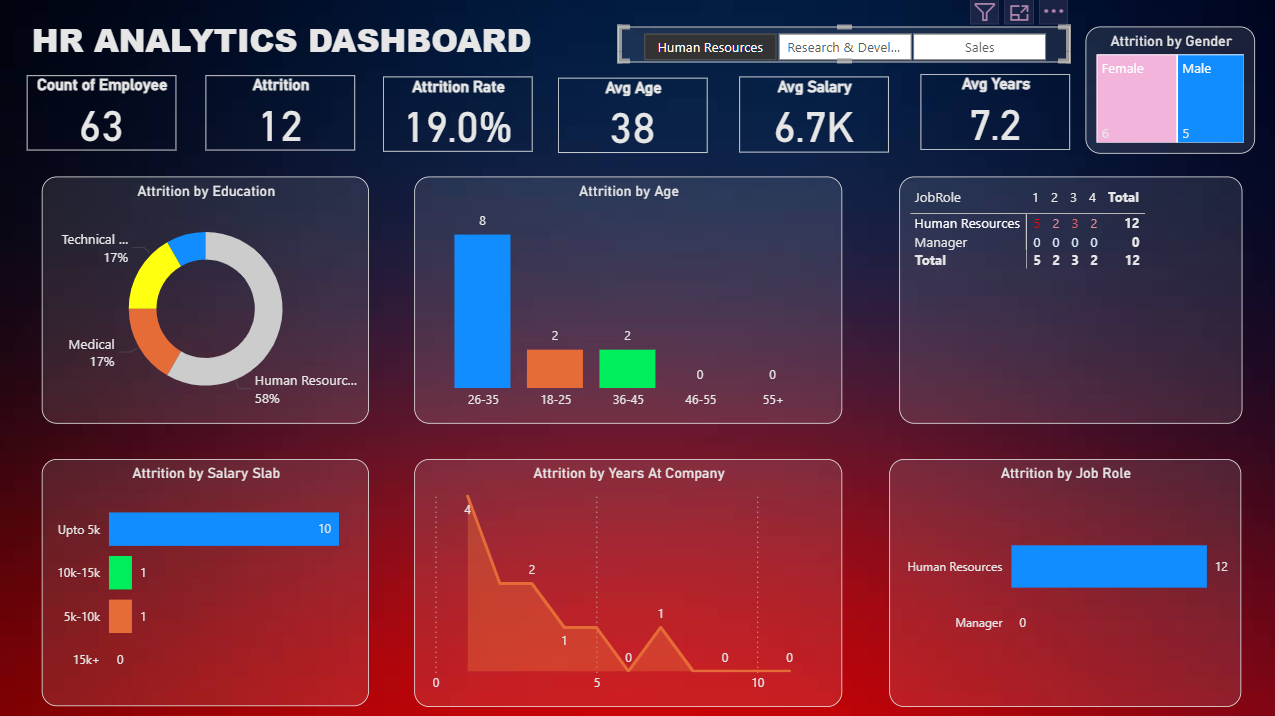

What the dashboard file says about the page in this screenshot:
{"tool":"powerbi","page":{"name":"Page 1","canvas":[1280,720],"ordinal":0},"visuals":[{"type":"card","title":"Count of Employee","fields":{"Values":["CountNonNull(HR_Analytics.EmpID)"]},"box":[29.3,75.7,149.6,75.5],"z":0},{"type":"card","title":"Attrition","fields":{"Values":["Sum(HR_Analytics.AttritionCount)"]},"box":[207.7,75.7,149.6,75.5],"z":1000},{"type":"card","title":"Attrition Rate","fields":{"Values":["HR_Analytics.AttritionRate"]},"box":[384.7,77.1,149.6,75.5],"z":2000},{"type":"card","title":"Avg Age","fields":{"Values":["Avg(HR_Analytics.Age)"]},"box":[560.4,78.4,149.6,75.5],"z":3000},{"type":"card","title":"Avg Salary","fields":{"Values":["Avg(HR_Analytics.MonthlyIncome)"]},"box":[741.8,77.6,149.6,76],"z":4000},{"type":"card","title":"Avg Years","fields":{"Values":["Avg(HR_Analytics.YearsAtCompany)"]},"box":[922.8,75.2,149.6,76],"z":5000},{"type":"donutChart","title":"Attrition by Education","fields":{"Category":["HR_Analytics.EducationField"],"Y":["Sum(HR_Analytics.AttritionCount)"]},"box":[43.6,177.5,327.3,247.3],"z":6000},{"type":"columnChart","title":"Attrition by Age","fields":{"Category":["HR_Analytics.AgeGroup"],"Y":["Sum(HR_Analytics.AttritionCount)"]},"box":[415.8,177.7,428,247.3],"z":6001},{"type":"pivotTable","title":"Job Satisfaction","fields":{"Rows":["HR_Analytics.JobRole"],"Columns":["HR_Analytics.JobSatisfaction"],"Values":["Sum(HR_Analytics.AttritionCount)"]},"box":[900.8,177.5,343.1,247.3],"z":6002},{"type":"barChart","title":"Attrition by Salary Slab","fields":{"Category":["HR_Analytics.SalarySlab"],"Y":["Sum(HR_Analytics.AttritionCount)"]},"box":[43.6,460,327.3,247.3],"z":6003},{"type":"barChart","title":"Attrition by Job Role","fields":{"Category":["HR_Analytics.JobRole"],"Y":["Sum(HR_Analytics.AttritionCount)"]},"box":[891.5,459.4,351.8,248],"z":6004},{"type":"areaChart","title":"Attrition by Years At Company","fields":{"Category":["HR_Analytics.YearsAtCompany"],"Y":["Sum(HR_Analytics.AttritionCount)"]},"box":[415.8,459.4,428.2,248],"z":6005},{"type":"treemap","title":"Attrition by Gender","fields":{"Group":["HR_Analytics.Gender"],"Values":["Sum(HR_Analytics.AttritionCount)"]},"box":[1087.5,27.9,169.7,127.3],"z":6006},{"type":"slicer","fields":{"Values":["HR_Analytics.Department"]},"box":[619.5,27.4,452.2,36.4],"z":6007},{"type":"textbox","box":[29.1,12.1,572.2,57],"z":6008}]}

Visuals, with their boxes in screenshot pixels (x1, y1, x2, y2), scaled from the page's 1280x720 canvas onto the 1275x716 screenshot:
"Count of Employee" card: (29,75,178,150)
"Attrition" card: (207,75,356,150)
"Attrition Rate" card: (383,77,532,152)
"Avg Age" card: (558,78,707,153)
"Avg Salary" card: (739,77,888,153)
"Avg Years" card: (919,75,1068,150)
"Attrition by Education" donutChart: (43,177,369,422)
"Attrition by Age" columnChart: (414,177,841,423)
"Job Satisfaction" pivotTable: (897,177,1239,422)
"Attrition by Salary Slab" barChart: (43,457,369,703)
"Attrition by Job Role" barChart: (888,457,1238,703)
"Attrition by Years At Company" areaChart: (414,457,841,703)
"Attrition by Gender" treemap: (1083,28,1252,154)
slicer - HR_Analytics.Department: (617,27,1068,63)
textbox: (29,12,599,69)
